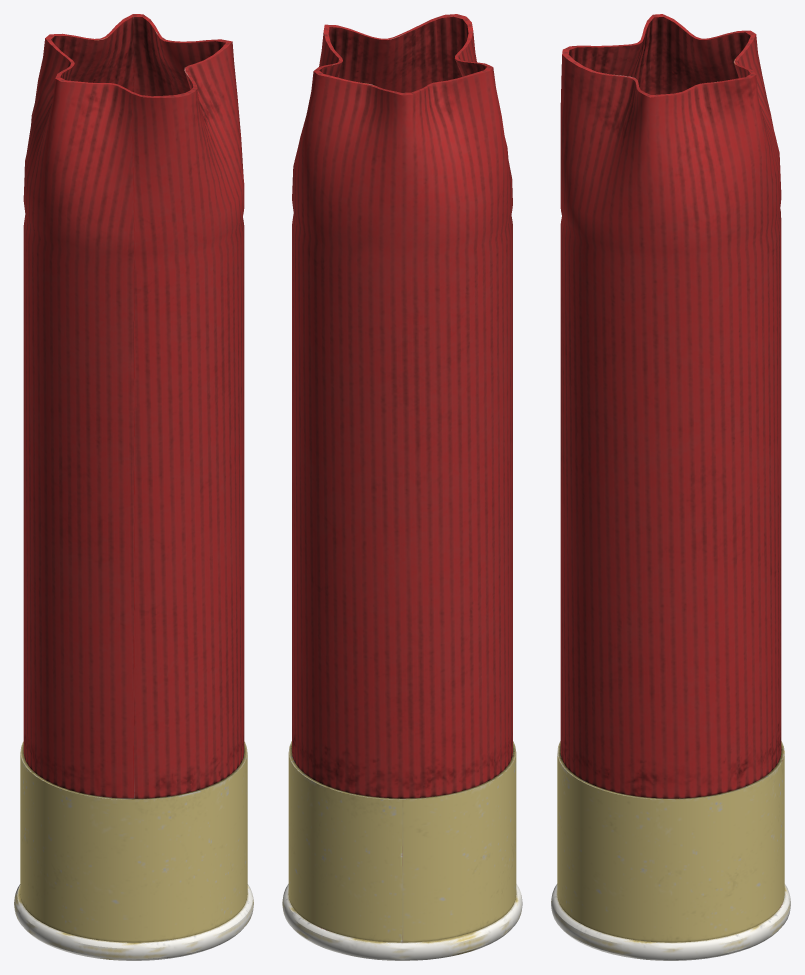
Rendered from 12_shotgun_shell.glb.
The picture shows the model from 3 angles, left to right: view 1: azimuth 30°, elevation 25°; view 2: azimuth 150°, elevation 25°; view 3: azimuth 270°, elevation 25°; orthographic projection.
Visible parts, largest first — view 1: pPipe1; view 2: pPipe1; view 3: pPipe1.
Boxes of the visible parts, x1=… form: pPipe1: x1=14, y1=14, x2=253, y2=960; pPipe1: x1=282, y1=14, x2=522, y2=960; pPipe1: x1=551, y1=14, x2=790, y2=960.
Size of the model in its own units: 0.0477 by 0.1883 by 0.0477.
1 material, 1 textured.
